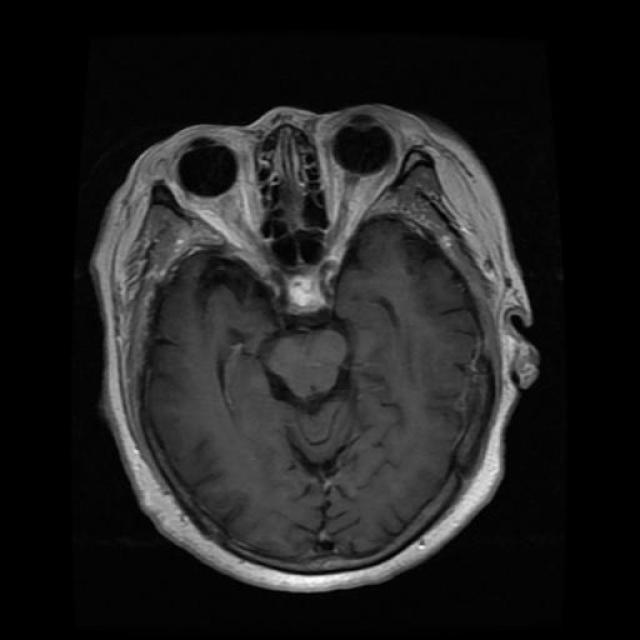pituitary: (270, 270, 338, 320)
